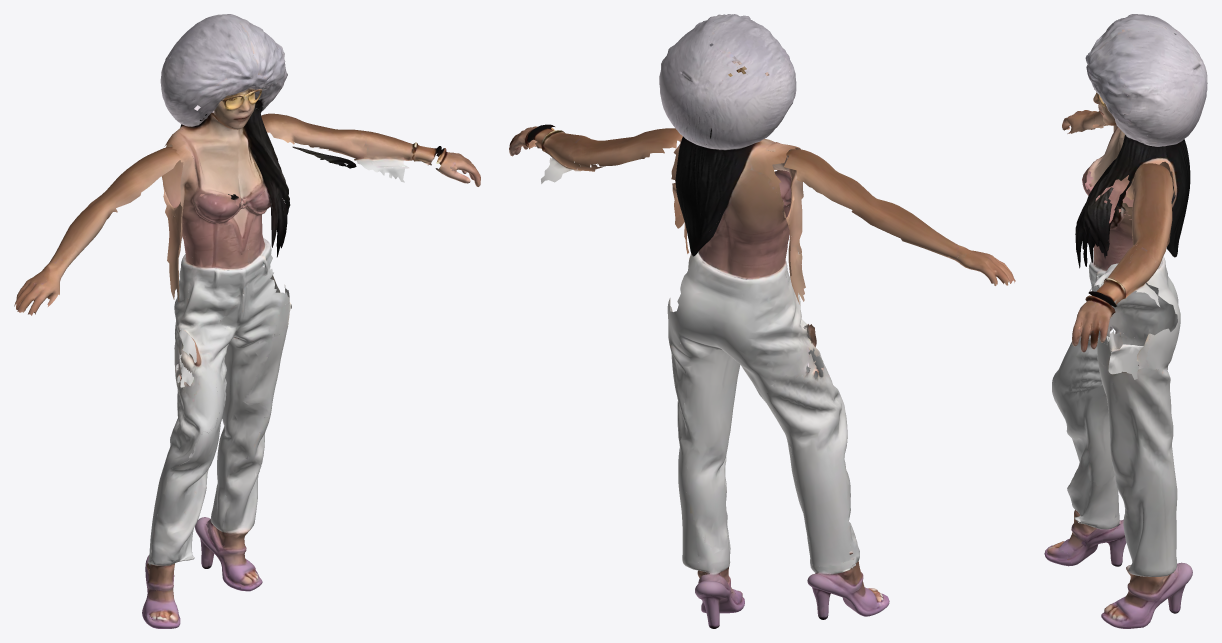
Rendered from nova.fbx.
3 renders of one model, left to right at view 1: azimuth 30°, elevation 25°; view 2: azimuth 150°, elevation 25°; view 3: azimuth 270°, elevation 25°, orthographic. The views are drawn at different scales.
Visible parts, largest first — view 1: model; view 2: model; view 3: model.
Boxes of the visible parts, x1,y1,x2,y2 form: model: [14, 14, 480, 628]; model: [509, 14, 1015, 628]; model: [1044, 14, 1207, 628].
Size of the model in its own units: 1.65 by 1.9 by 0.4703.
Materials: 1 (1 with a texture image).
